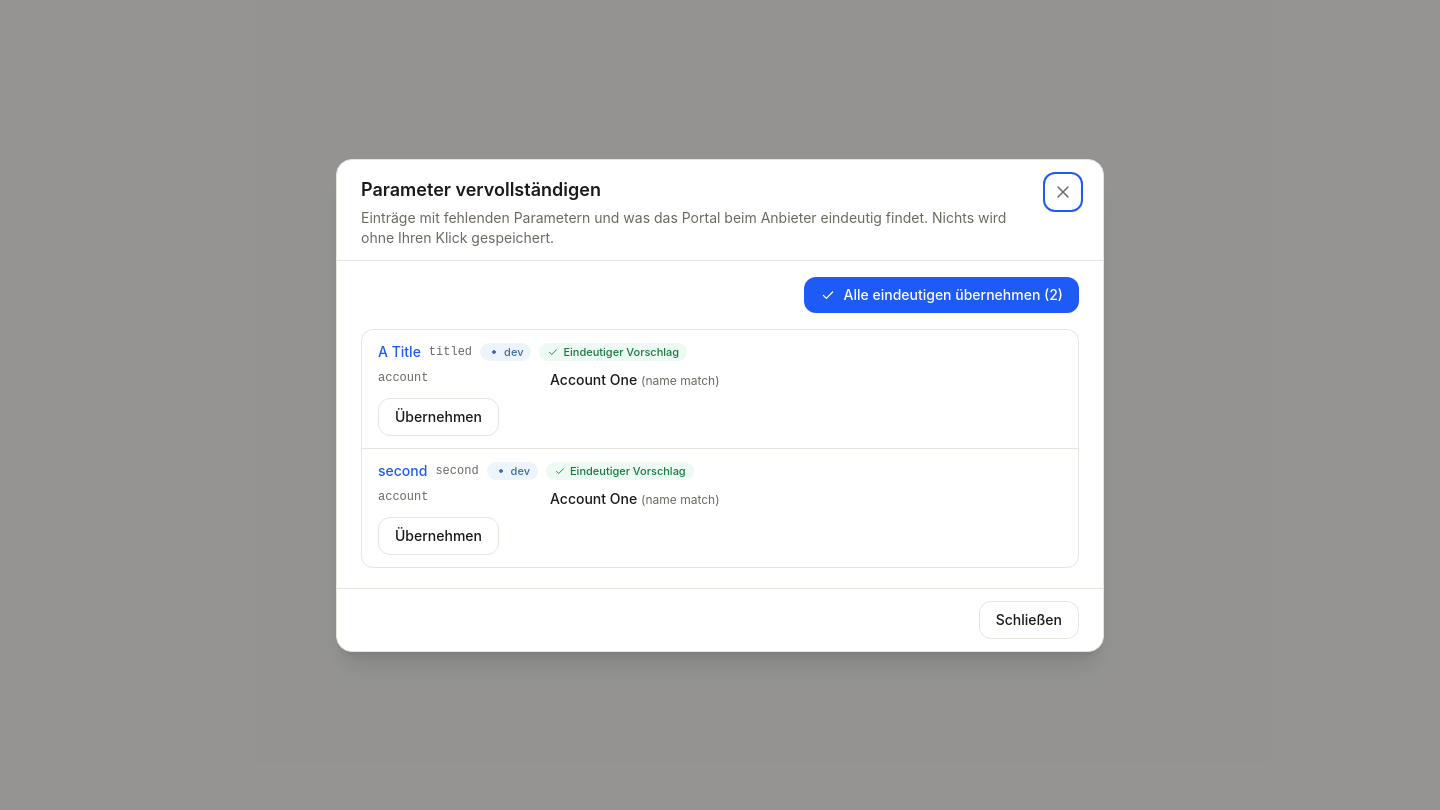
Test: CompleteParamsDialog › applies all unambiguous rows and confirms by toast
This screenshot has width=1440, height=810.
Step 1. Click the button "Alle eindeutigen übernehmen (2)" → click(941, 294), box [804, 276, 1079, 312]
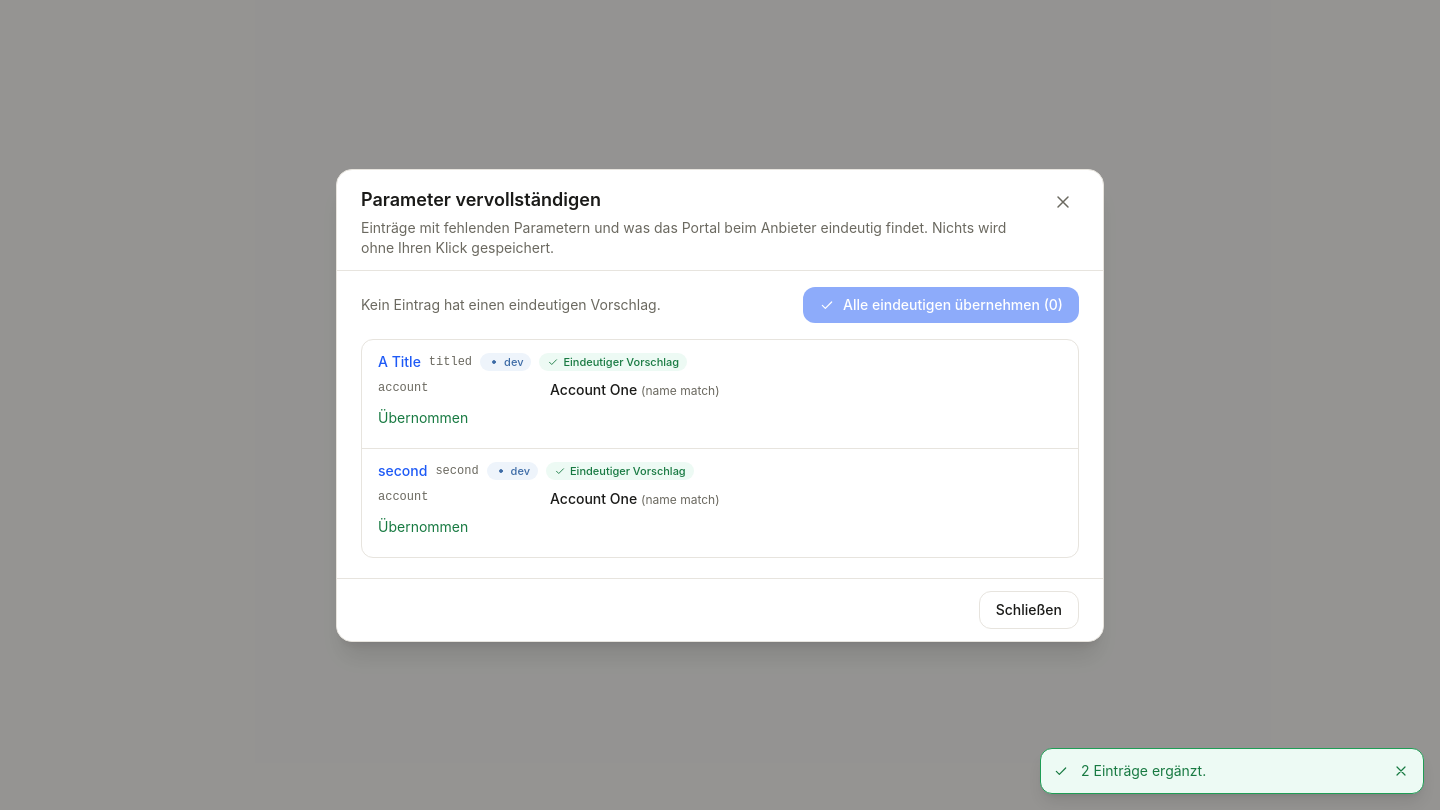
Check: the text "2 Einträge ergänzt." is shown, box [1081, 762, 1206, 779]
